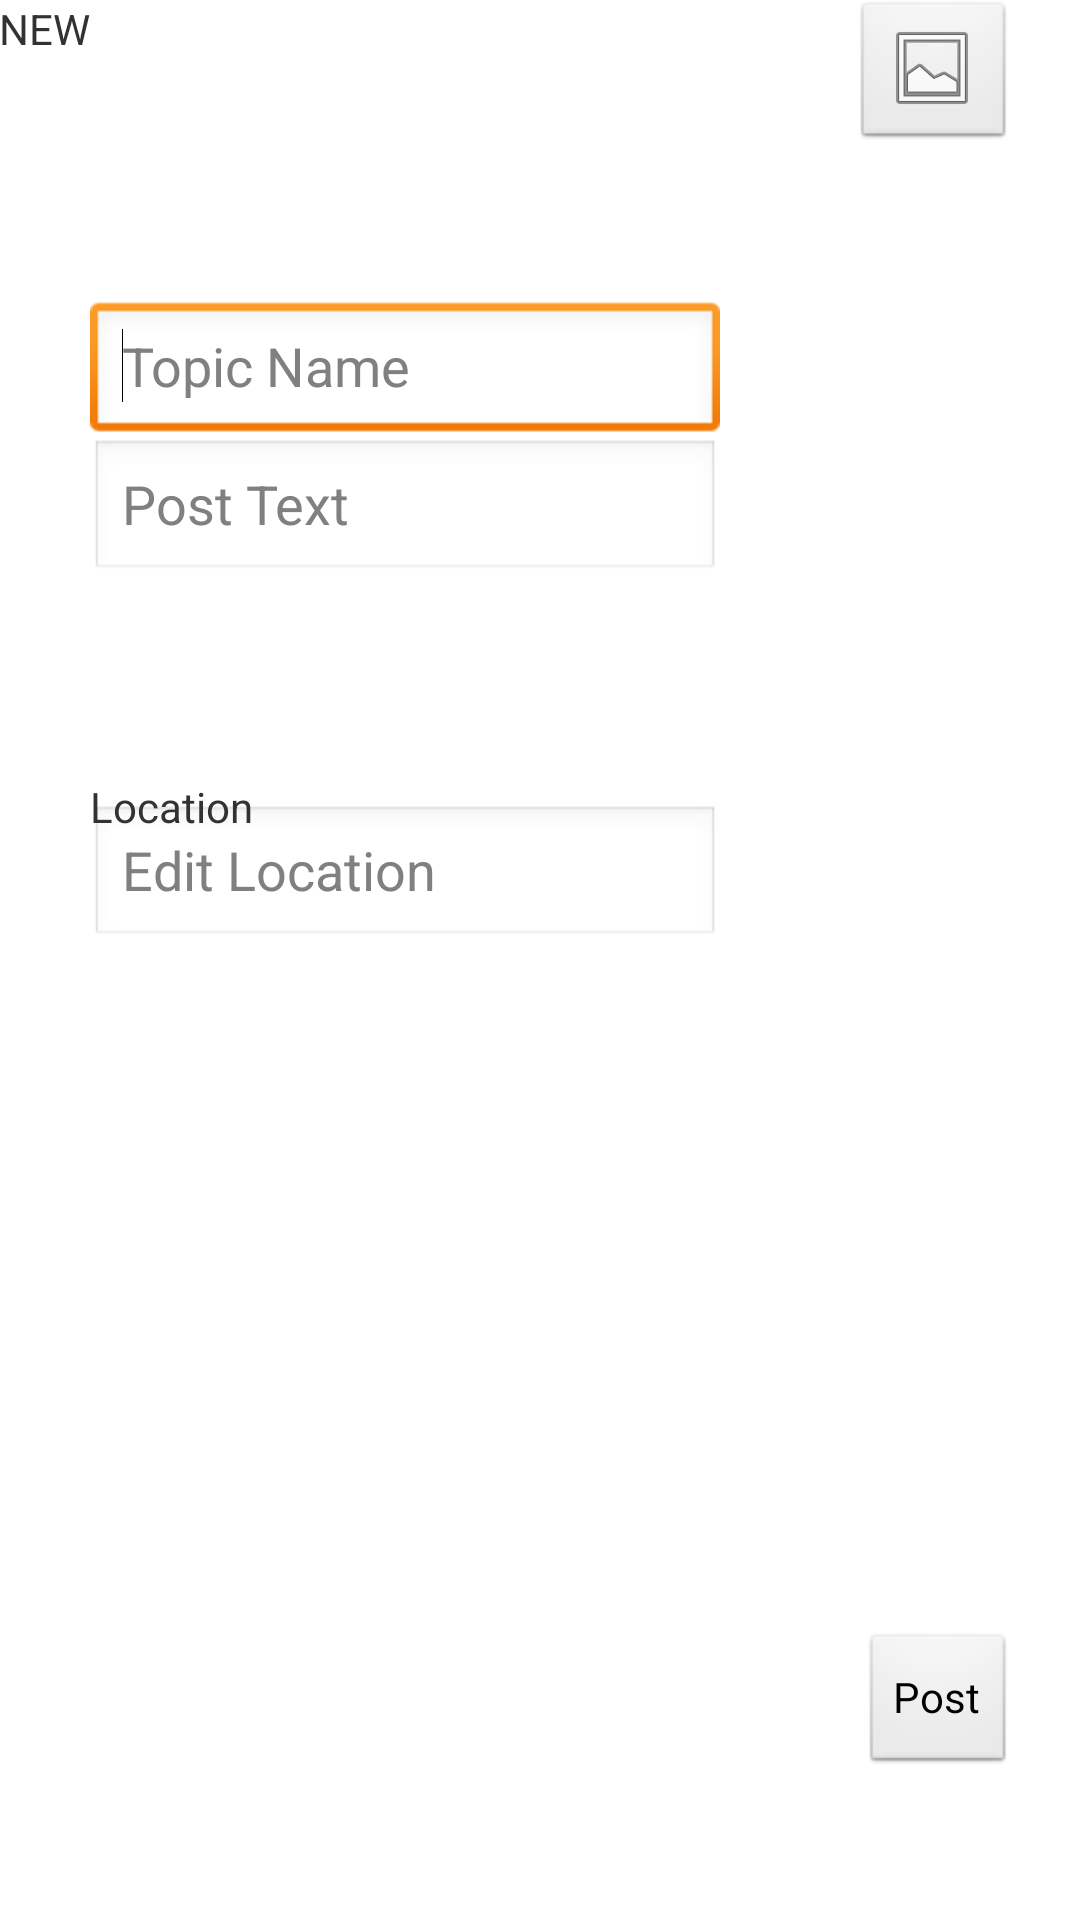

Icon bounding boxes for this 1080px x 1920px phone screenshot, format (x1, y1, x2, y2):
gallery: (860, 2, 1007, 139)
